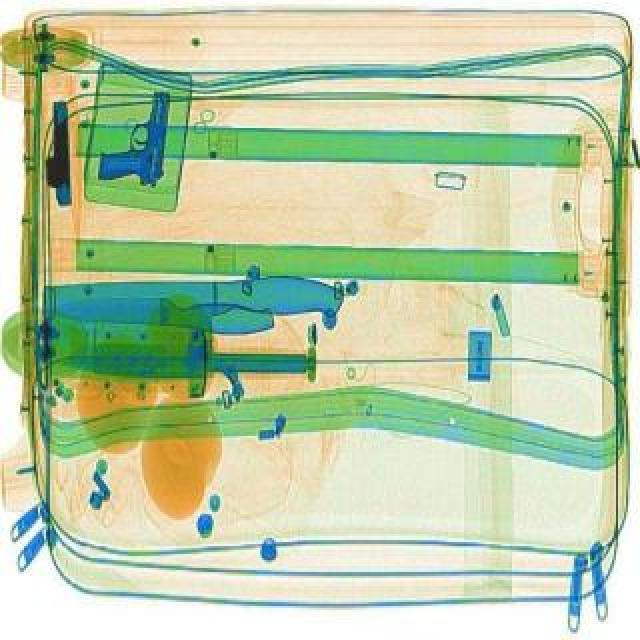gun: (100, 88, 178, 192), (44, 102, 78, 210)
knife: (44, 280, 348, 386), (58, 346, 314, 382), (54, 302, 278, 338)
